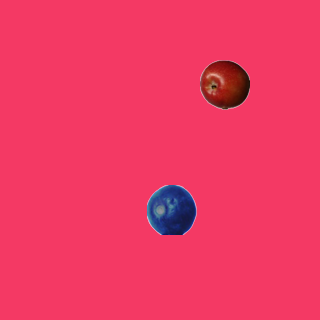Apple Braeburn: (199, 59, 249, 109)
Huckleberry: (146, 184, 196, 234)
